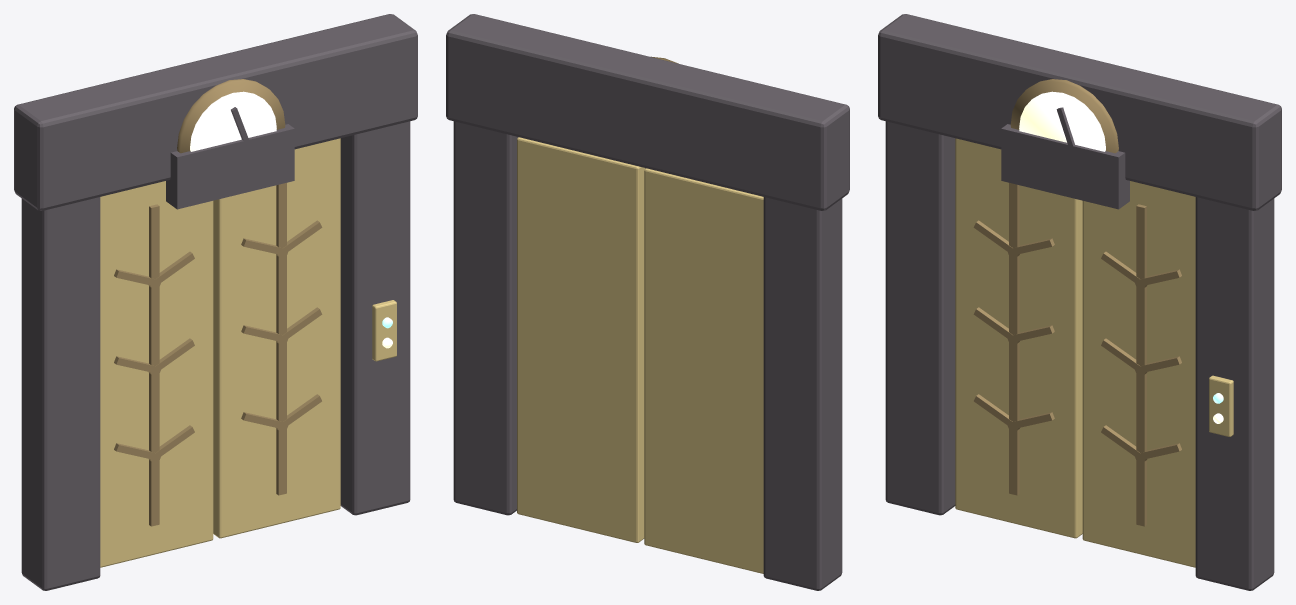
Rendered from hotel_elevator_doors.glb.
3 views of the same model, side by side, from view 1: azimuth 30°, elevation 25°; view 2: azimuth 150°, elevation 25°; view 3: azimuth 330°, elevation 25° (orthographic).
Parts seen in each view (by area): view 1: SurroundL; view 2: SurroundL; view 3: SurroundL.
Boxes of the visible parts, <box> form: SurroundL: <box>14,14,417,590</box>; SurroundL: <box>446,14,849,590</box>; SurroundL: <box>878,14,1281,590</box>.
Size of the model in its own units: 2.75 by 3.26 by 0.4201.
